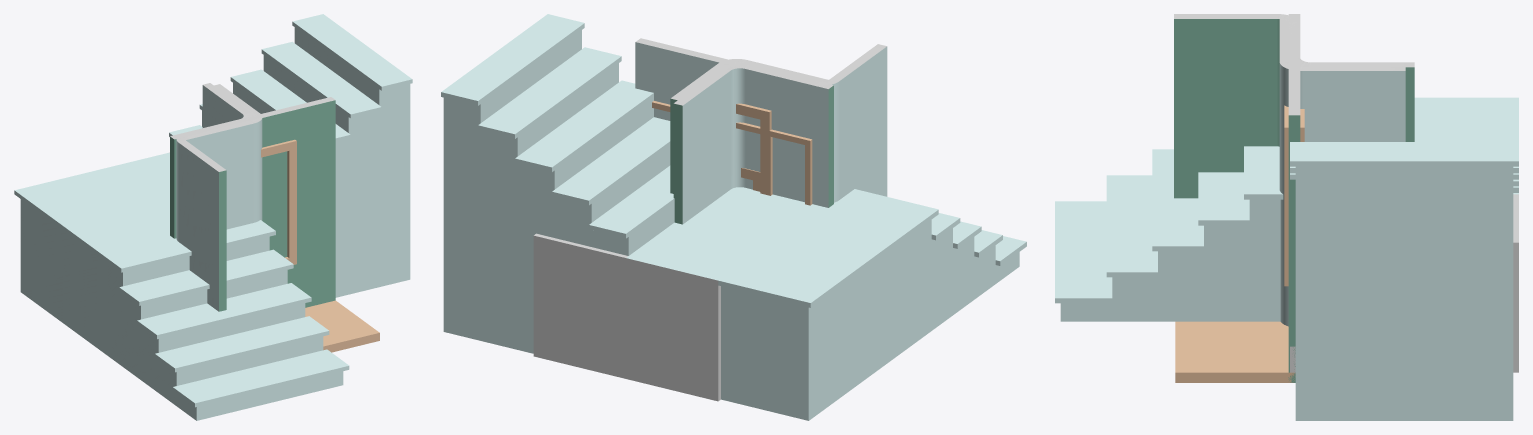
The model's file is _kenney_structure.fbx.
3 views of the same model, side by side, from view 1: azimuth 30°, elevation 25°; view 2: azimuth 150°, elevation 25°; view 3: azimuth 270°, elevation 25° (orthographic). The views are drawn at different scales.
Visible parts, largest first — view 1: CornerStairs, WallCornerS, WallDoorway, WallInnerCorner, Wall, WallDoorwayWide, Floor, WallWindow, WallCornerRound; view 2: CornerStairs, Stairs, WallCornerS, Wall, WallCornerRound, WallDoorway, WallHalf, WallDoorwayWide, WallInnerCorner, WallWindow; view 3: CornerStairs, WallCornerS, WallInnerCorner, Floor, Wall, FloorHalf, WallCornerRound, Stairs, WallWindow.
Part boxes in pixels (x1,y1,x2,y2): CornerStairs: (14,14,412,420); WallCornerS: (176,84,251,311); WallDoorway: (262,100,335,307); WallInnerCorner: (181,84,262,229); Wall: (177,97,335,307); WallDoorwayWide: (262,101,335,302); Floor: (305,300,379,352); WallWindow: (261,102,335,302); WallCornerRound: (170,83,252,238); CornerStairs: (441,14,1026,420); Stairs: (533,233,720,401); WallCornerS: (673,44,887,224); Wall: (635,38,824,205); WallCornerRound: (673,63,833,224); WallDoorway: (635,42,820,201); WallHalf: (733,61,819,201); WallDoorwayWide: (635,44,820,205); WallInnerCorner: (670,59,830,193); WallWindow: (635,44,820,201); CornerStairs: (1055,97,1518,420); WallCornerS: (1174,14,1413,198); WallInnerCorner: (1279,18,1405,326); Floor: (1175,321,1295,382); Wall: (1288,18,1300,382); FloorHalf: (1175,322,1288,348); WallCornerRound: (1288,14,1414,141); Stairs: (1290,194,1518,372); WallWindow: (1284,105,1304,286).
Size of what is drawn, in the model's own units: 800 by 520 by 810.
